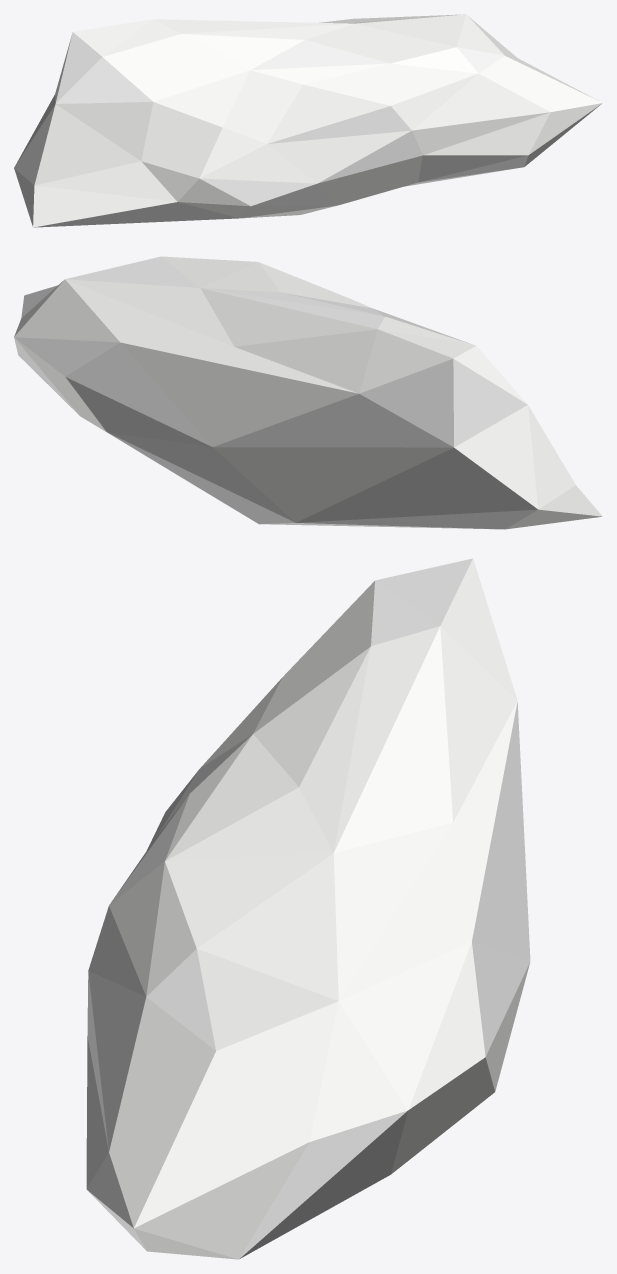
The model's file is Cloud_v17.fbx.
3 renders of one model, top to bottom at view 1: azimuth 30°, elevation 25°; view 2: azimuth 150°, elevation 25°; view 3: azimuth 270°, elevation 25°, orthographic. The views are drawn at different scales.
Parts seen in each view (by area): view 1: Cloud_v17; view 2: Cloud_v17; view 3: Cloud_v17.
Boxes of the visible parts, x1,y1,x2,y2 form: Cloud_v17: (14,14,602,227); Cloud_v17: (14,256,602,529); Cloud_v17: (86,558,530,1259).
Size of the model in its own units: 49.77 by 16.85 by 18.12.
Materials: 1 (1 with a texture image).
